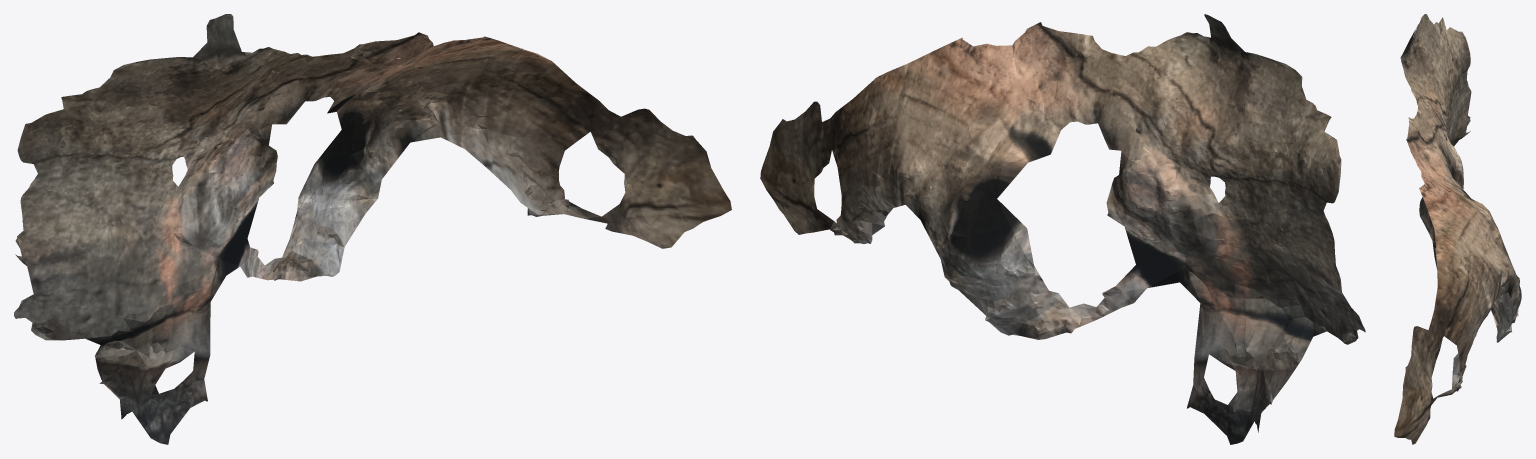
The picture shows the model from 3 angles, left to right: view 1: azimuth 30°, elevation 25°; view 2: azimuth 150°, elevation 25°; view 3: azimuth 270°, elevation 25°; orthographic projection. The views are drawn at different scales.
Visible parts, largest first — view 1: TexturedMesh; view 2: TexturedMesh; view 3: TexturedMesh.
Boxes of the visible parts, x1,y1,x2,y2 form: TexturedMesh: (14, 14, 731, 444); TexturedMesh: (760, 14, 1365, 444); TexturedMesh: (1394, 14, 1521, 444).
Bounding box in the file's own units: 2.29 × 1.39 × 0.4934.
1 material, 1 textured.
